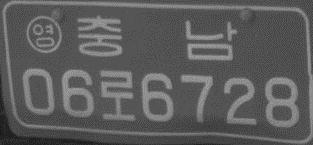0: (21, 67, 55, 117)
2: (223, 76, 258, 126)
6: (60, 68, 96, 118), (140, 72, 174, 122)
7: (180, 73, 213, 124)
8: (263, 76, 299, 129)
로: (99, 69, 137, 122)
영: (25, 15, 62, 54)
충남_D: (76, 14, 237, 61)
